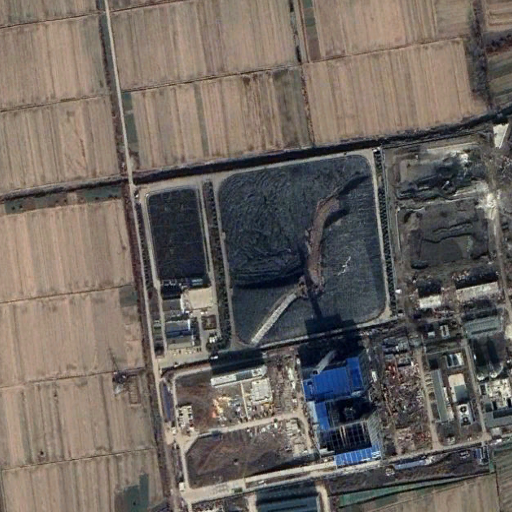lf: (212, 153, 392, 345)
